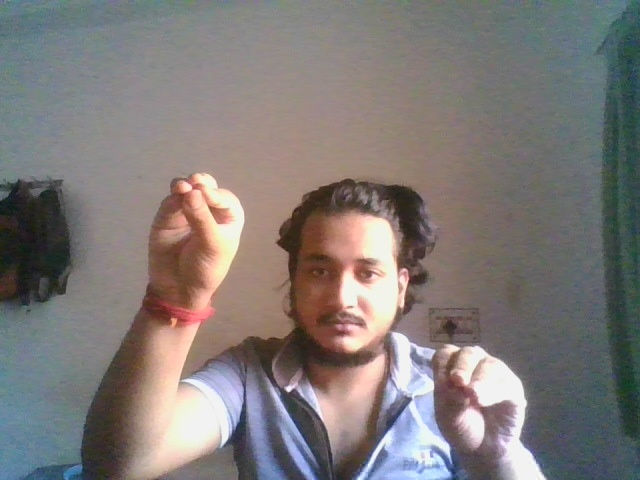Mouth: (146, 168, 246, 295), (430, 341, 526, 454)
